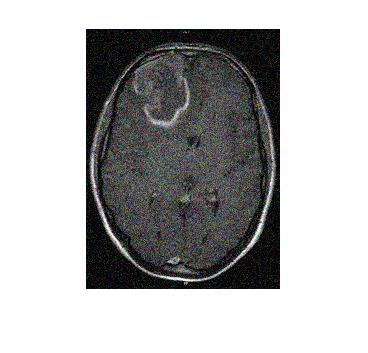Brain_Cancer: (134, 68, 190, 125)
